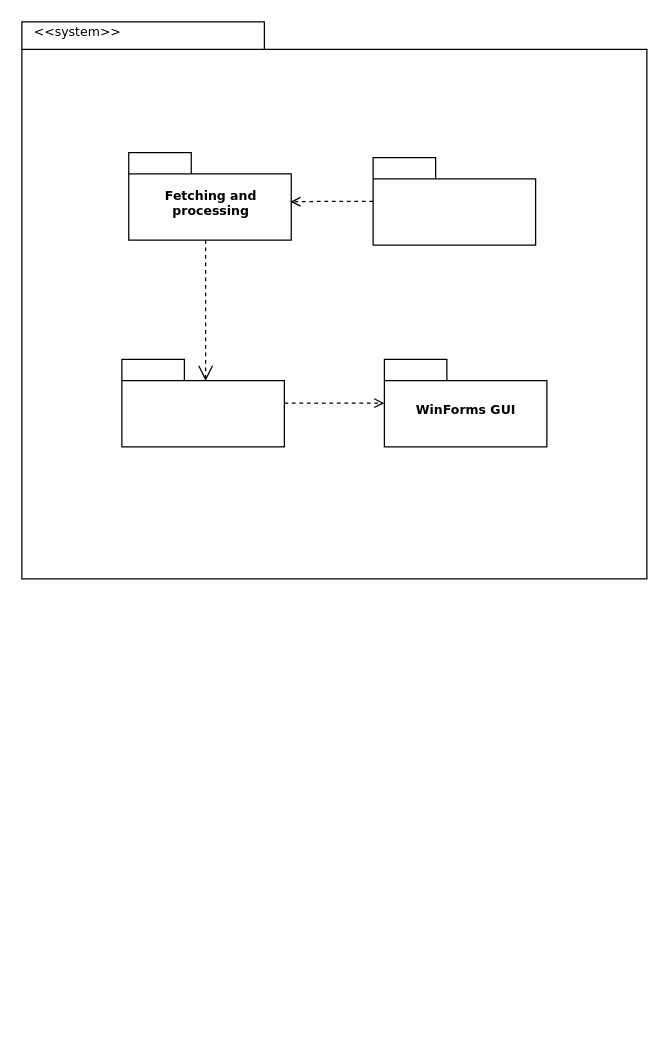
Some shapes in this 671 by 1046 pixel diagram are drawn without their labels. Here are the shapes that lost their labels. From the top down, the centre of each, then its label:
At (454,200): "Login".
At (202,402): "Validating data in the DB".
